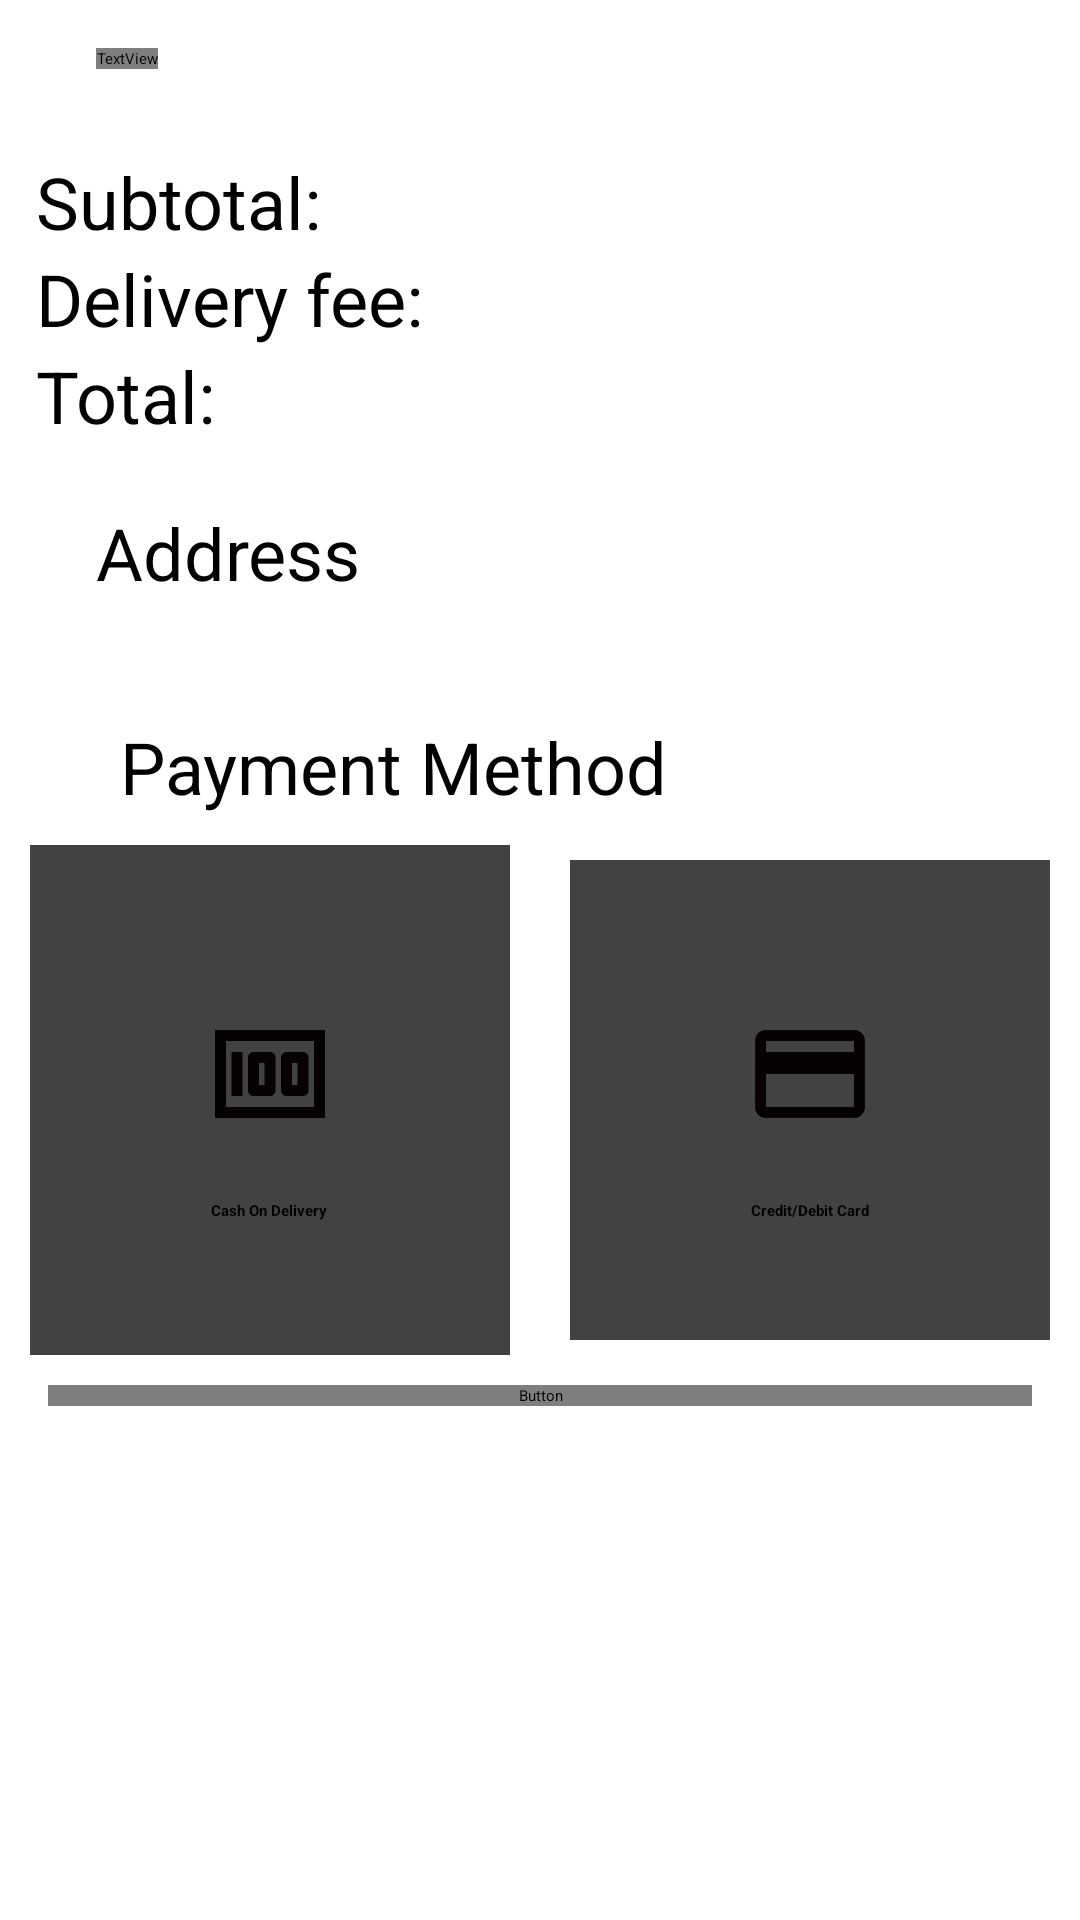

Icon bounding boxes for this 1080x1920 phone screenshot, format (x1, y1, x2, y2):
money: (215, 1030, 325, 1118)
